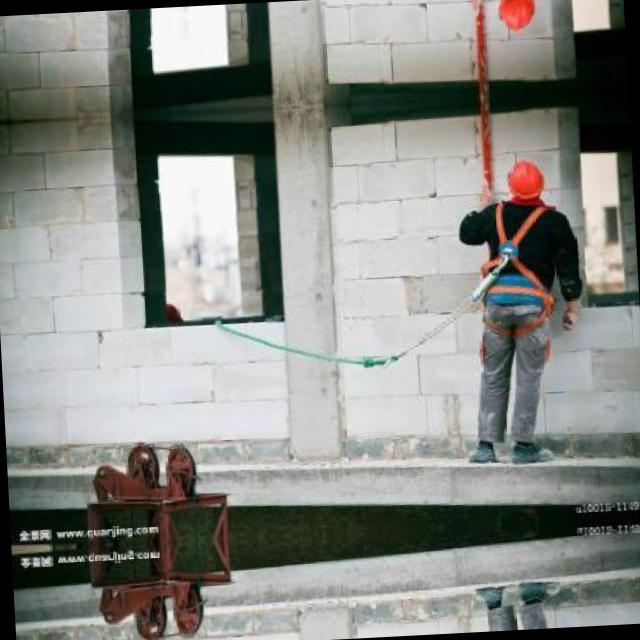helmet: (502, 154, 548, 208), (493, 0, 540, 38)
